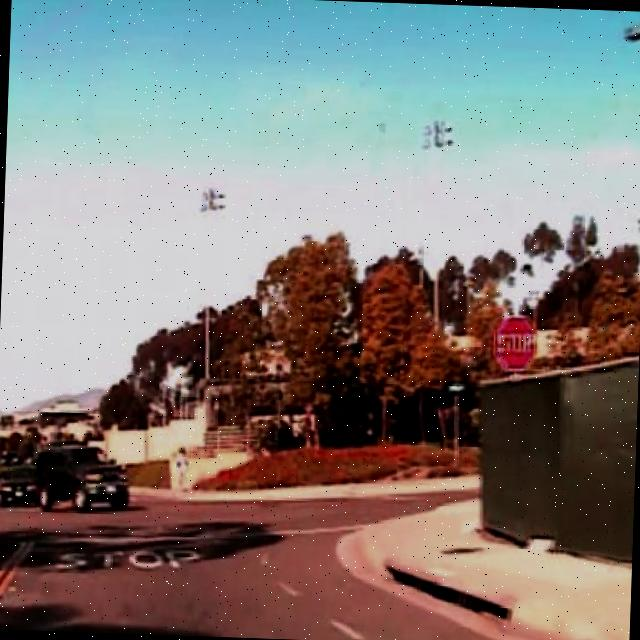Stop: (489, 312, 540, 378)
